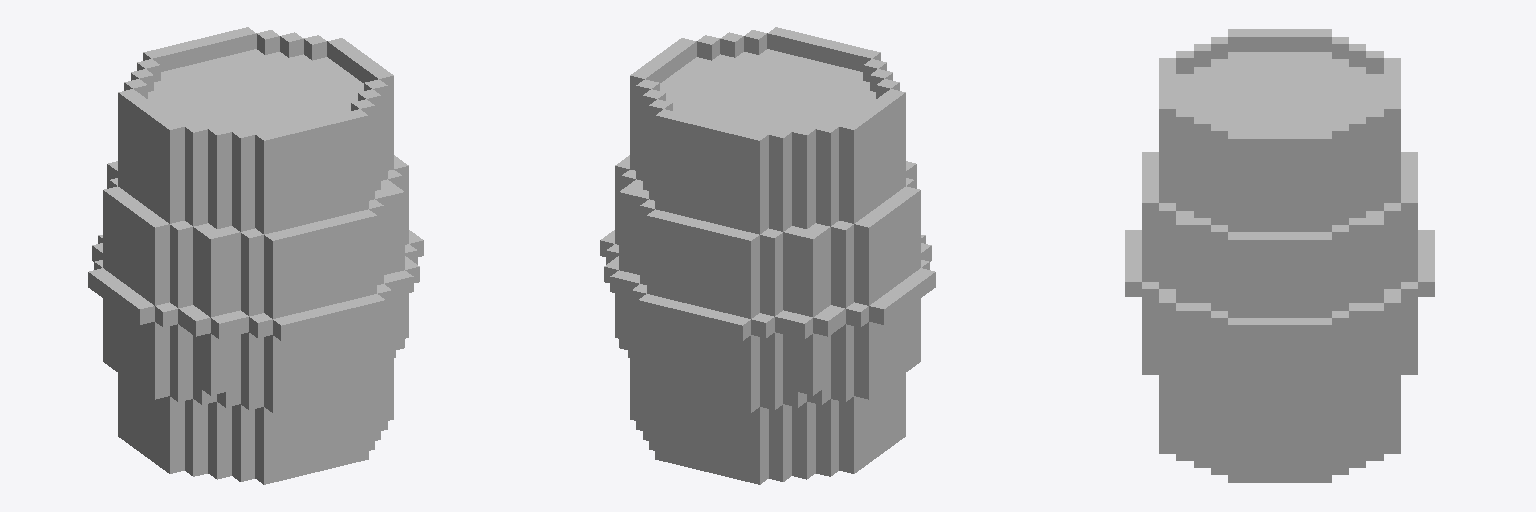
The model's file is Barrel.obj.
The picture shows the model from 3 angles: view 1: azimuth 30°, elevation 25°; view 2: azimuth 150°, elevation 25°; view 3: azimuth 270°, elevation 25°; orthographic projection.
Parts seen in each view (by area): view 1: object 1; view 2: object 1; view 3: object 1.
Boxes of the visible parts, <box> form: object 1: <box>88,27,423,484</box>; object 1: <box>600,27,935,484</box>; object 1: <box>1125,29,1434,482</box>.
Size of the model in its own units: 1.9 by 2.2 by 1.8.